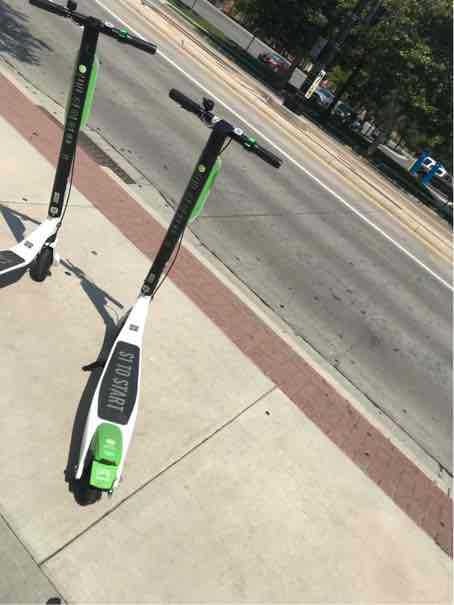scooter: (74, 78, 293, 508)
